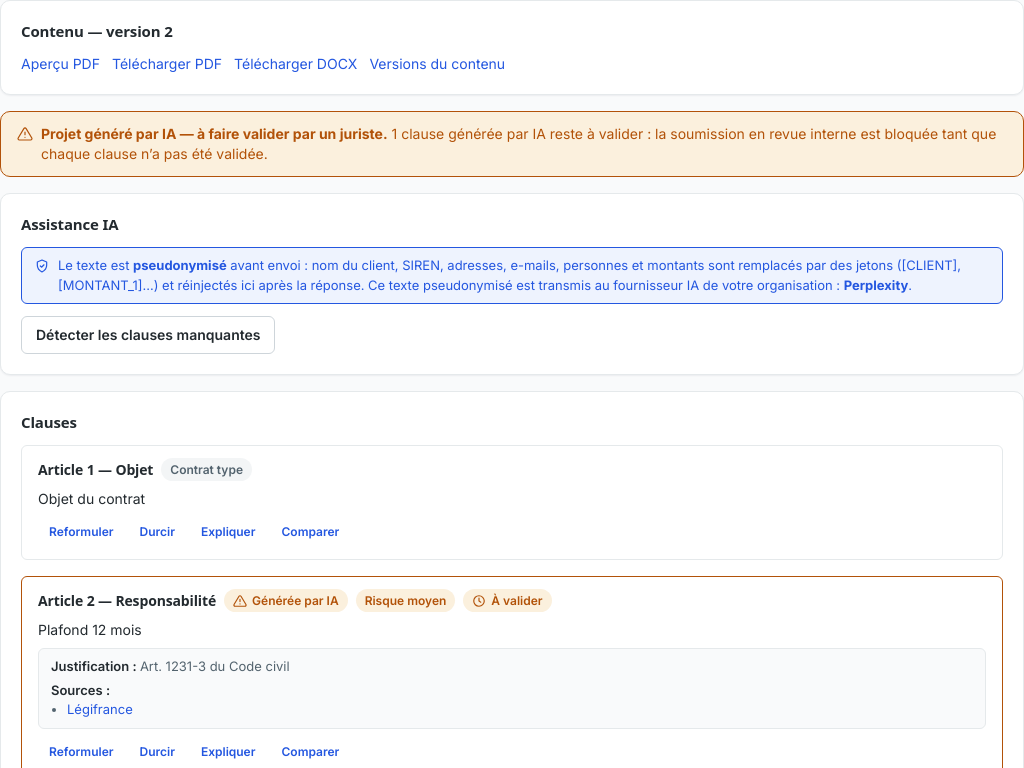
Test: détection des clauses manquantes
Click the button "Détecter les clauses manquantes". click: (148, 335)
box: [21, 316, 276, 354]
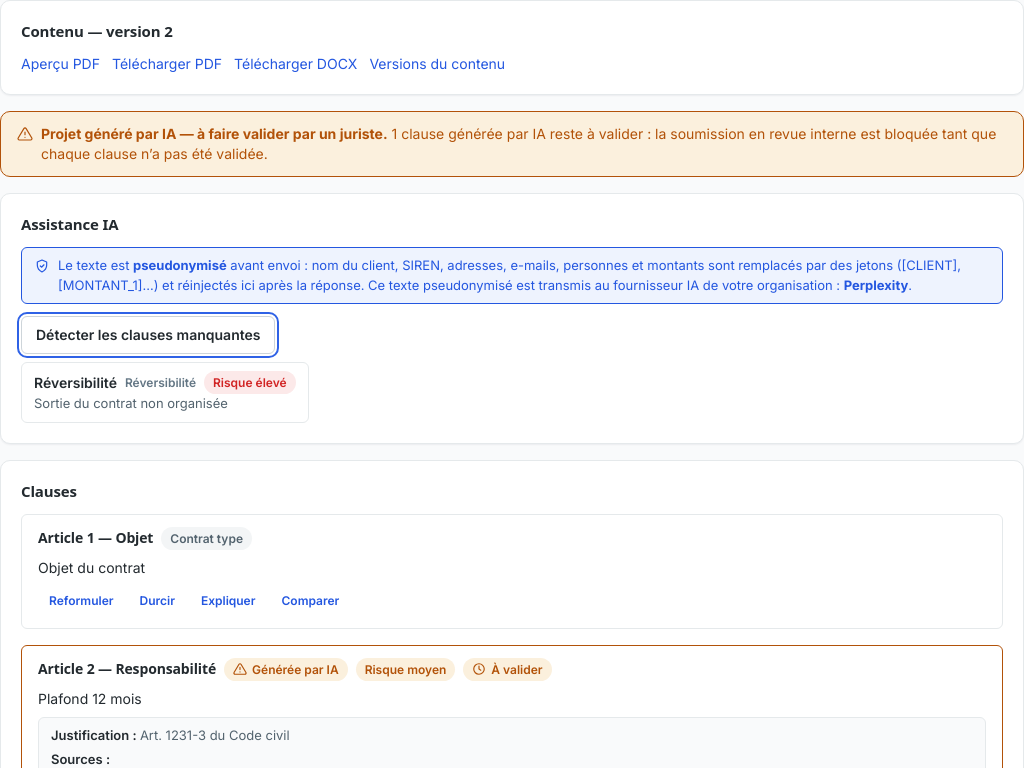
Result: the number of buttons "Réversibilité Réversibilité Risque élevé" is 2 at [34, 371, 296, 394]; [125, 375, 196, 391]
Result: the text "Sortie du contrat non organisée" is shown at [34, 395, 228, 411]
Result: the text "Risque élevé" is shown at [204, 371, 296, 394]
